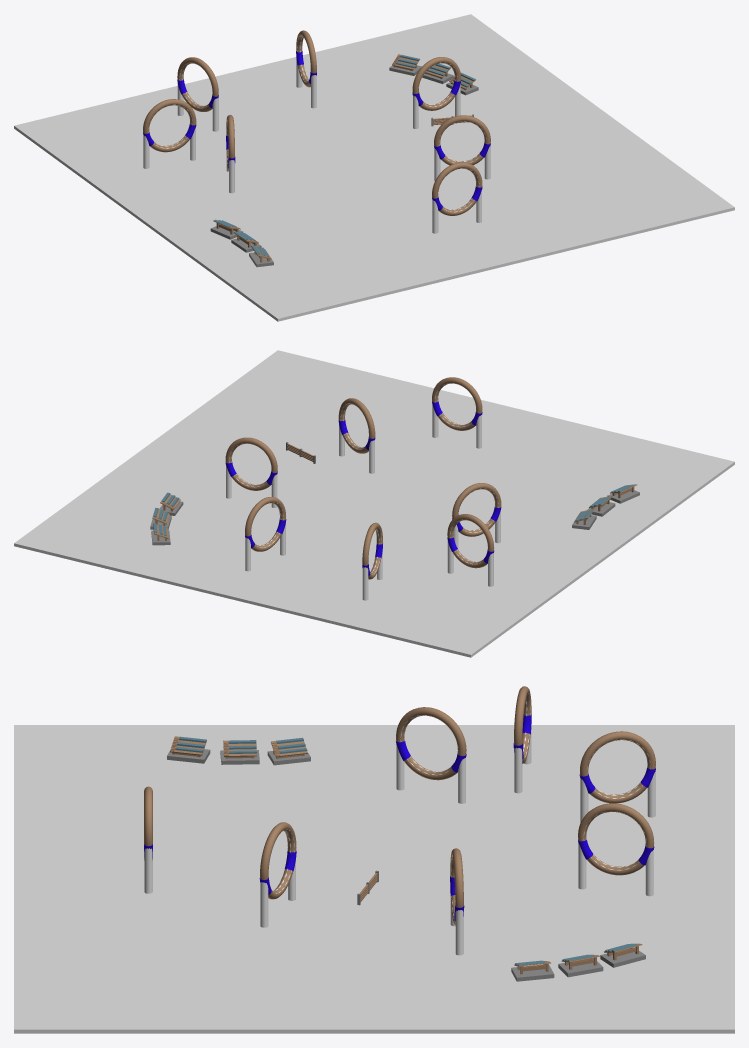
Rendered from test_course.glb.
The picture shows the model from 3 angles, top to bottom: view 1: azimuth 30°, elevation 25°; view 2: azimuth 150°, elevation 25°; view 3: azimuth 270°, elevation 25°; orthographic projection. The views are drawn at different scales.
Parts seen in each view (by area): view 1: Floor, Checkpoint.Mesh.006, Checkpoint.Mesh.001, Checkpoint.Mesh, Checkpoint.Mesh.003, Checkpoint.Mesh.005, Checkpoint.Mesh.004, Checkpoint.Mesh.007; view 2: Floor, Checkpoint.Mesh.001, Checkpoint.Mesh.003, Checkpoint.Mesh.006, Checkpoint.Mesh.004, Checkpoint.Mesh, Checkpoint.Mesh.007, Checkpoint.Mesh.005; view 3: Floor, Checkpoint.Mesh.004, Checkpoint.Mesh.005, Checkpoint.Mesh.007, Checkpoint.Mesh, Checkpoint.Mesh.006, Checkpoint.Mesh.003, Checkpoint.Mesh.001, Seats.Mesh.001, Seats.Mesh.003, Seats.Mesh.002, Seats.Mesh.004 (+2 smaller).
Boxes of the visible parts, <box> form: Floor: <box>14,14,734,321</box>; Checkpoint.Mesh.006: <box>143,99,196,168</box>; Checkpoint.Mesh.001: <box>432,162,482,233</box>; Checkpoint.Mesh: <box>434,115,490,180</box>; Checkpoint.Mesh.003: <box>412,57,460,128</box>; Checkpoint.Mesh.005: <box>177,57,218,131</box>; Checkpoint.Mesh.004: <box>296,30,316,108</box>; Checkpoint.Mesh.007: <box>226,115,235,193</box>; Floor: <box>14,350,734,657</box>; Checkpoint.Mesh.001: <box>432,377,482,448</box>; Checkpoint.Mesh.003: <box>225,437,277,507</box>; Checkpoint.Mesh.006: <box>447,514,494,586</box>; Checkpoint.Mesh.004: <box>245,497,286,571</box>; Checkpoint.Mesh: <box>338,398,375,473</box>; Checkpoint.Mesh.007: <box>452,483,501,549</box>; Checkpoint.Mesh.005: <box>362,522,382,600</box>; Floor: <box>14,725,734,1033</box>; Checkpoint.Mesh.004: <box>578,803,654,896</box>; Checkpoint.Mesh.005: <box>579,731,655,822</box>; Checkpoint.Mesh.007: <box>396,707,466,803</box>; Checkpoint.Mesh: <box>259,822,296,927</box>; Checkpoint.Mesh.006: <box>513,686,531,793</box>; Checkpoint.Mesh.003: <box>450,848,464,955</box>; Checkpoint.Mesh.001: <box>144,786,152,893</box>; Seats.Mesh.001: <box>267,737,310,765</box>; Seats.Mesh.003: <box>167,736,210,763</box>; Seats.Mesh.002: <box>220,740,259,764</box>; Seats.Mesh.004: <box>600,943,645,967</box>.
Size of the model in its own units: 166 by 25.72 by 166.
